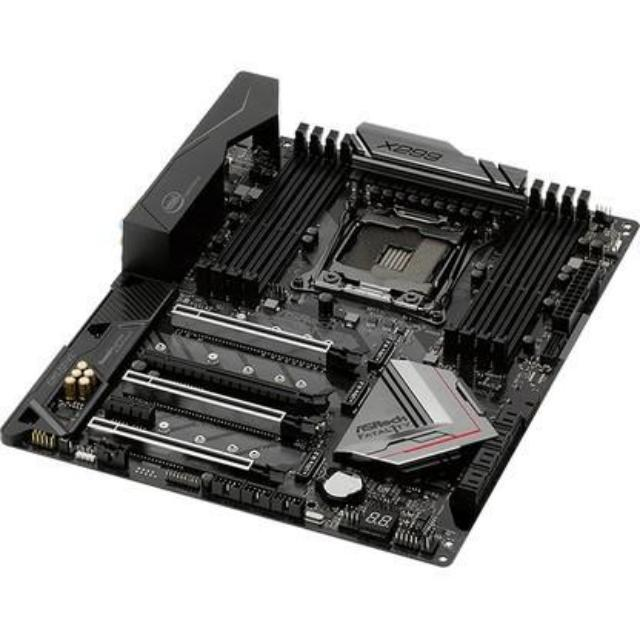Mainboard: (0, 63, 640, 571)
